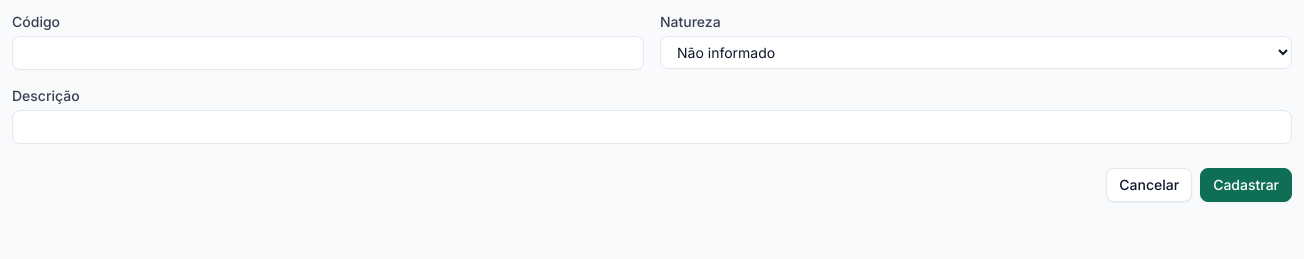
it: ChartAccountGroupForm › exige código e descrição ao submeter vazio
Click the button "Cadastrar" at (1246, 185), box [1200,168,1292,202]
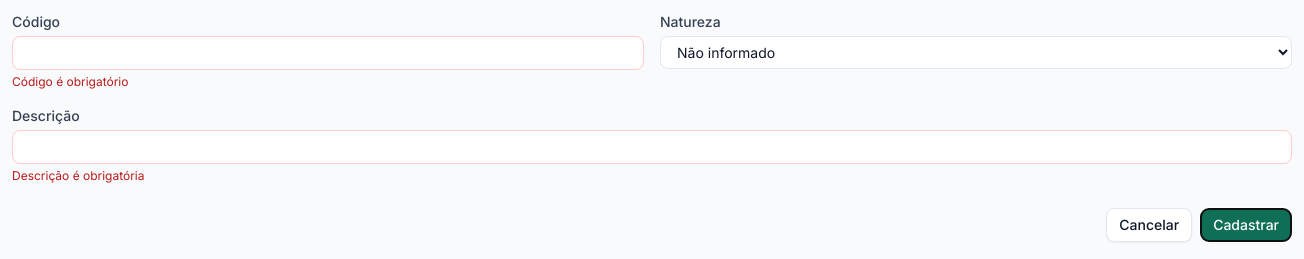
Expected: the text "Código é obrigatório" is shown, [12,74,128,89]
